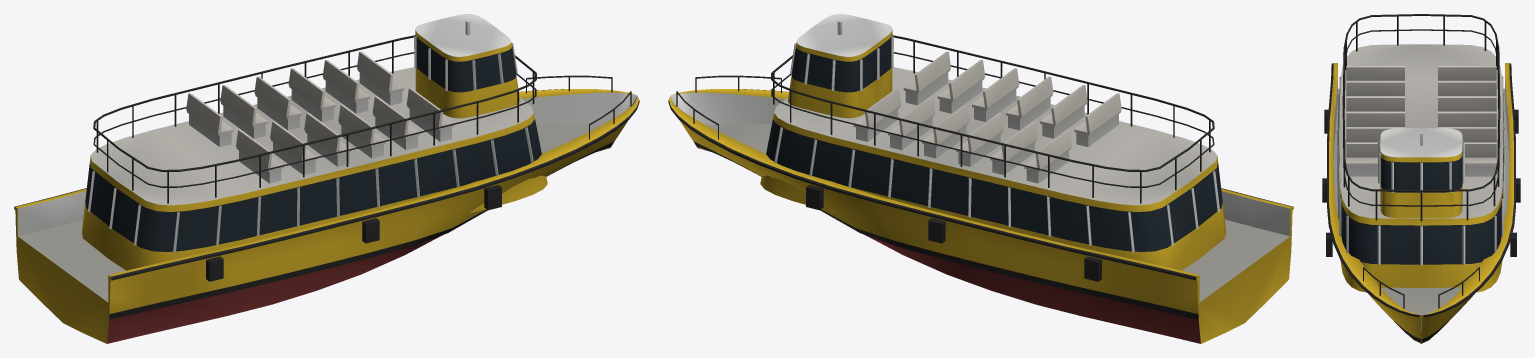
File: watertaxi.glb
The picture shows the model from 3 angles, left to right: view 1: azimuth 30°, elevation 25°; view 2: azimuth 150°, elevation 25°; view 3: azimuth 270°, elevation 25°; orthographic projection. The views are drawn at different scales.
Parts seen in each view (by area): view 1: lod0; view 2: lod0; view 3: lod0.
Boxes of the visible parts, x1=… form: lod0: x1=14, y1=14, x2=639, y2=343; lod0: x1=668, y1=14, x2=1293, y2=343; lod0: x1=1322, y1=14, x2=1520, y2=343.
Size of what is drawn, in the model's own units: 18.5 by 6.25 by 6.
